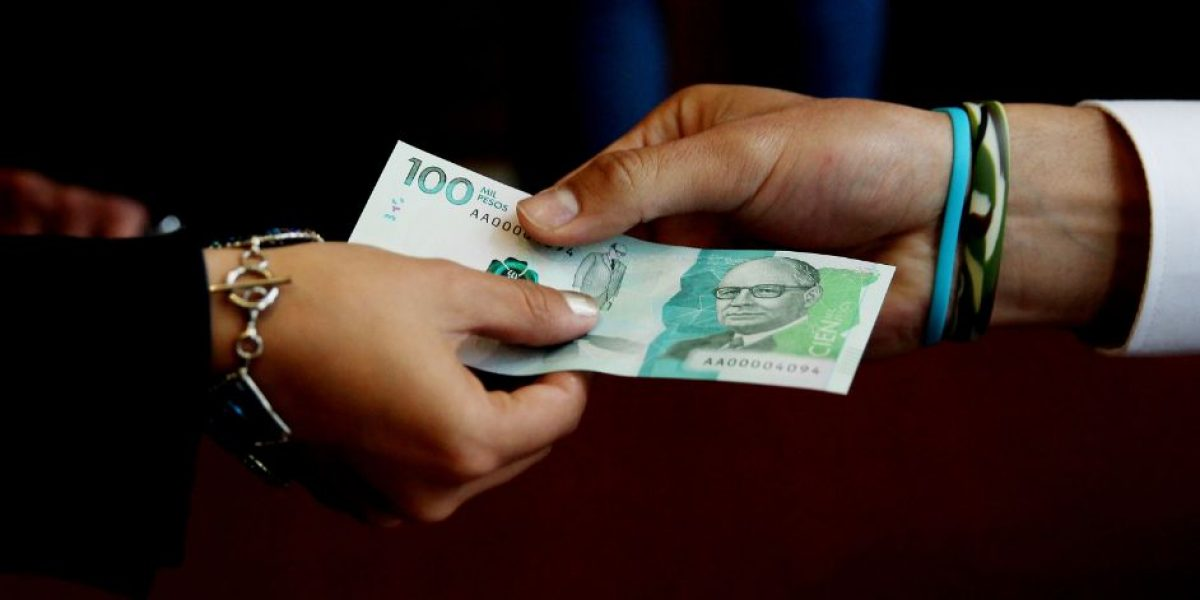billete: (345, 140, 897, 394)
